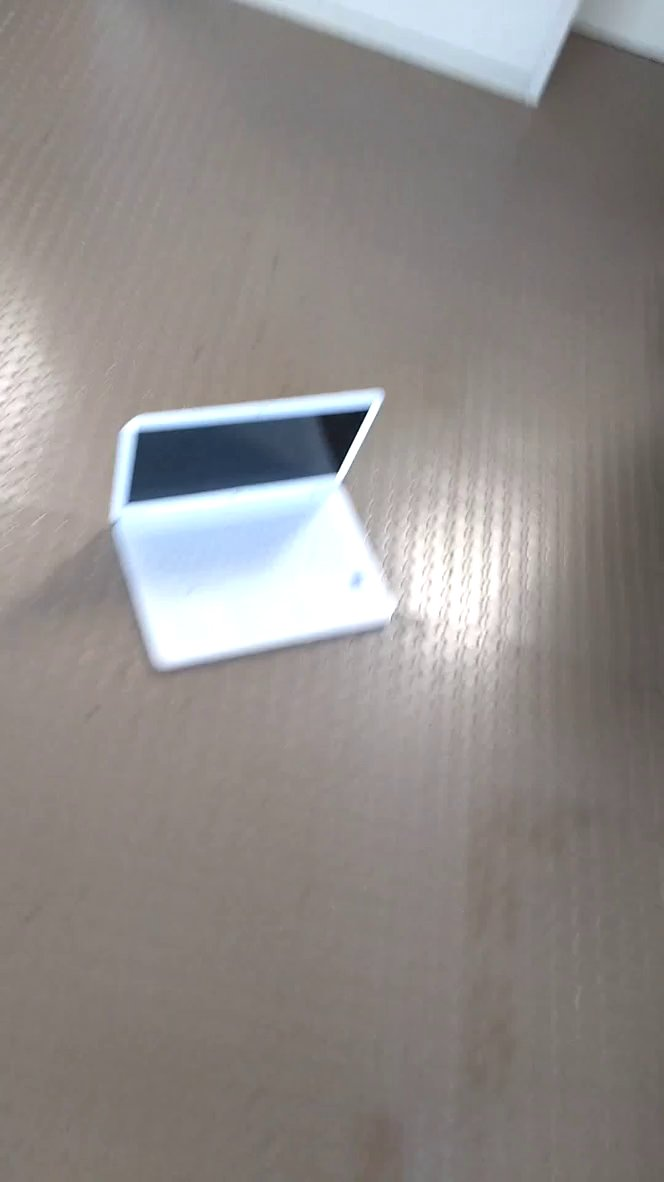laptop: (98, 379, 415, 679)
